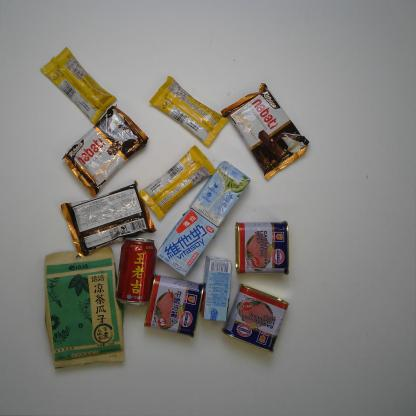Canned Food: (220, 283, 290, 353), (142, 274, 205, 338), (234, 219, 291, 276)
Chocolate: (40, 46, 118, 125), (138, 144, 217, 219), (150, 76, 231, 148)
Dessert: (220, 80, 311, 180), (60, 104, 148, 196), (60, 180, 158, 257)
Dried Food: (44, 246, 126, 370)
Drink: (115, 236, 158, 307)
Milk: (188, 159, 252, 228), (156, 207, 219, 277), (199, 255, 233, 323)
